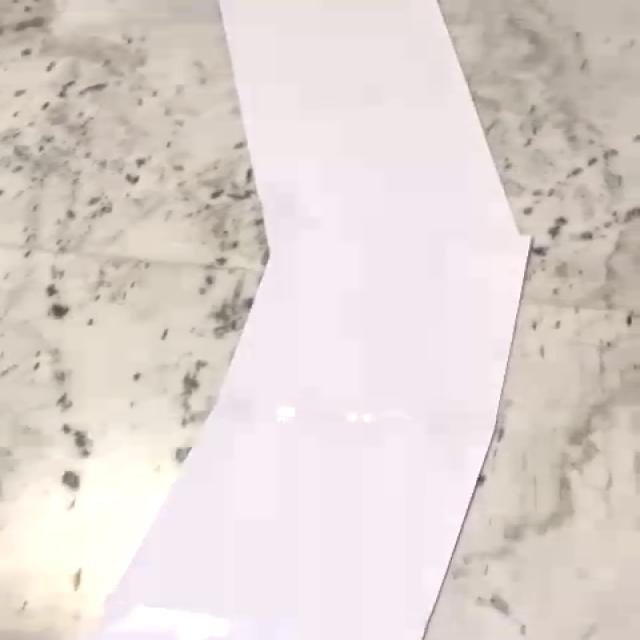road: (85, 0, 533, 640)
